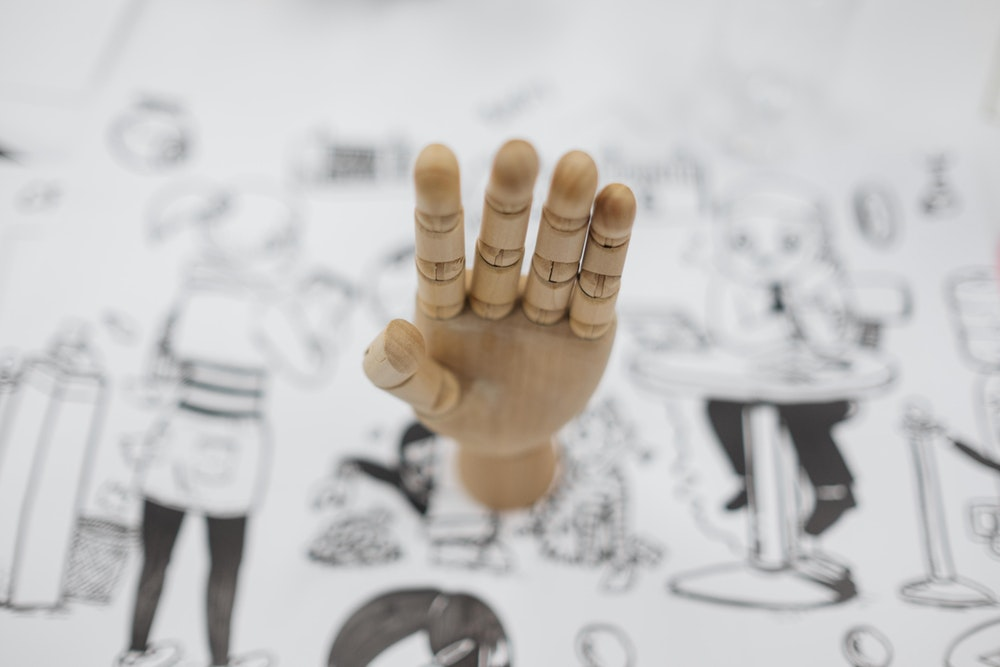palm: (411, 316, 609, 453)
